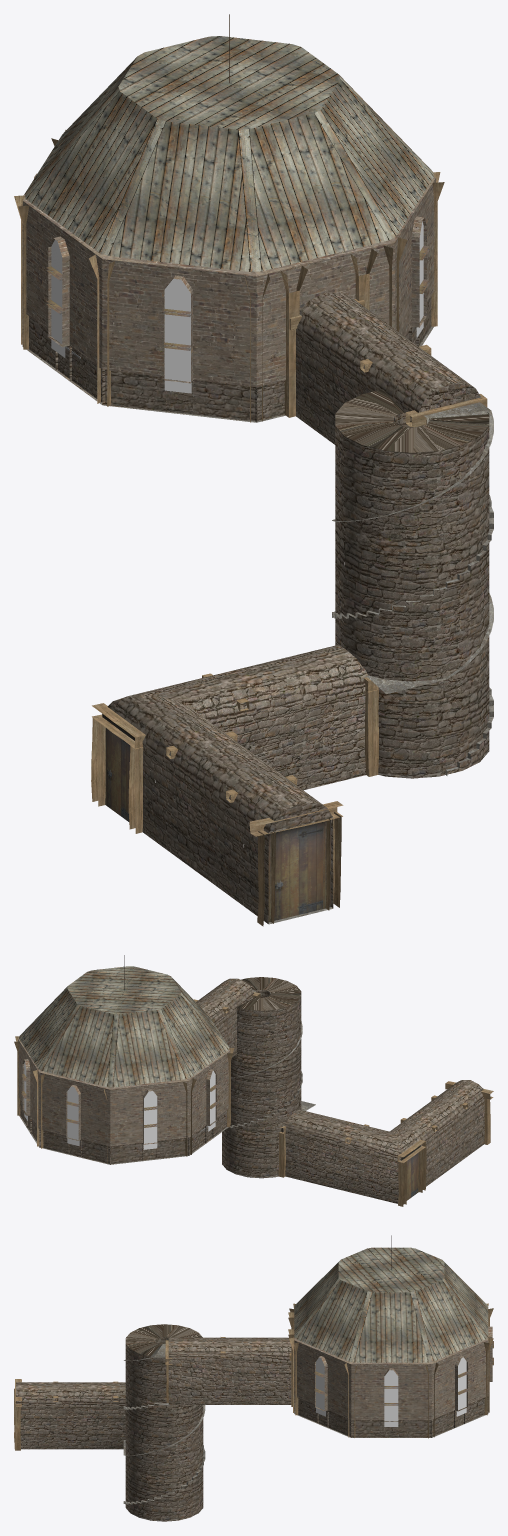
File: thief_env_01.FBX
3 renders of one model, top to bottom at view 1: azimuth 30°, elevation 25°; view 2: azimuth 150°, elevation 25°; view 3: azimuth 270°, elevation 25°, orthographic. The views are drawn at different scales.
Visible parts, largest first — view 1: Cylinder003, Cylinder001, Plane093, Plane094, Object018, Object009, Box023, Plane092, Plane001, Box037, Box040, Box039 (+5 smaller); view 2: Cylinder003, Plane093, Cylinder001, Plane094, Box023, Object004, Object005, Plane001, Box018, Box039, Object013, Box041 (+2 smaller); view 3: Cylinder003, Cylinder001, Plane094, Plane093, Object007, Object006, Object008, Plane092, Box021, Box018, Plane046, Box040.
Part boxes in pixels (x1,y1,x2,y2): Cylinder003: (22, 36, 435, 422); Cylinder001: (335, 389, 489, 778); Plane093: (107, 645, 368, 923); Plane094: (296, 292, 480, 444); Object018: (268, 820, 330, 921); Object009: (164, 279, 191, 393); Box023: (91, 718, 143, 833); Plane092: (332, 402, 493, 694); Plane001: (102, 714, 134, 821); Box037: (280, 264, 307, 417); Box040: (326, 811, 341, 910); Box039: (365, 689, 378, 776); Cylinder003: (18, 966, 230, 1164); Plane093: (283, 1080, 484, 1203); Cylinder001: (222, 977, 301, 1178); Plane094: (196, 978, 253, 1057); Box023: (398, 1146, 426, 1206); Object004: (143, 1091, 157, 1149); Object005: (67, 1086, 79, 1146); Plane001: (401, 1145, 420, 1200); Box018: (33, 1069, 44, 1148); Box039: (278, 1132, 285, 1177); Object013: (21, 1074, 217, 1127); Box041: (484, 1098, 490, 1144); Cylinder003: (294, 1247, 492, 1437); Cylinder001: (125, 1324, 203, 1521); Plane094: (168, 1337, 291, 1404); Plane093: (16, 1382, 125, 1449); Object007: (384, 1370, 398, 1426); Object006: (456, 1357, 466, 1416); Object008: (316, 1357, 325, 1416); Plane092: (123, 1344, 205, 1455); Box021: (289, 1337, 298, 1415); Box018: (484, 1337, 493, 1415); Plane046: (123, 1404, 205, 1504); Box040: (14, 1402, 21, 1450).
Size of what is drawn, in the model's own units: 1616 by 1643 by 2551.
